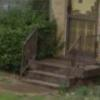stairs: (23, 55, 82, 90)
